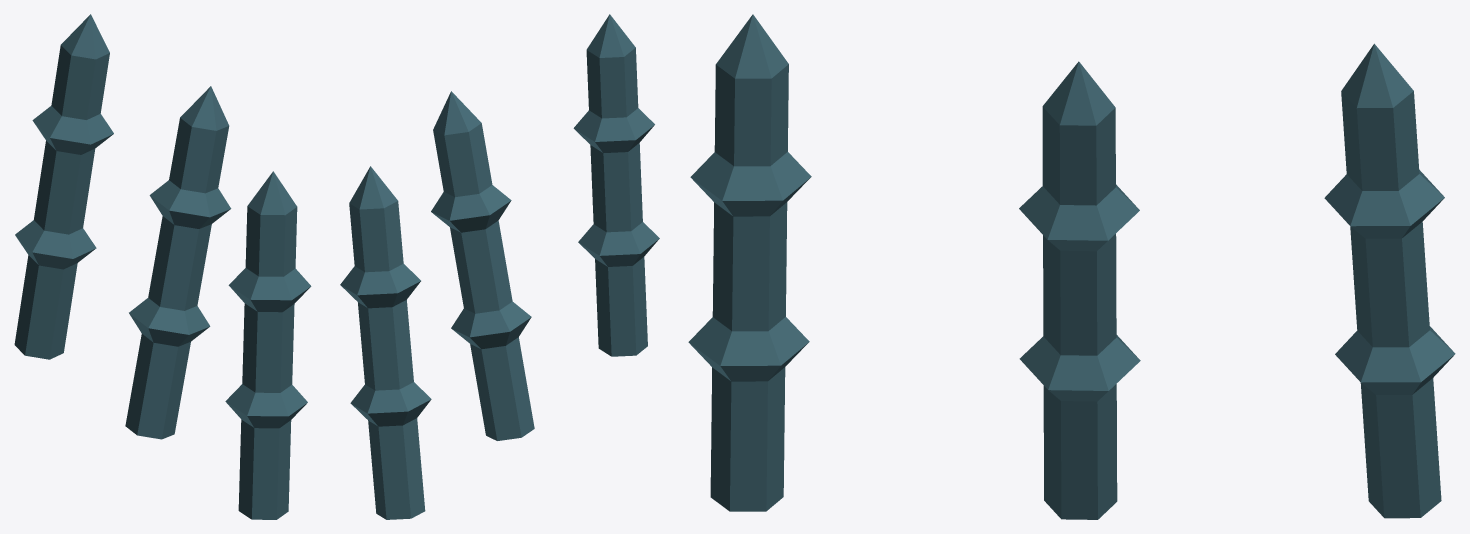
3 renders of one model, left to right at view 1: azimuth 30°, elevation 25°; view 2: azimuth 150°, elevation 25°; view 3: azimuth 270°, elevation 25°, orthographic. The views are drawn at different scales.
Parts seen in each view (by area): view 1: Cylinder1519_metal_0, Cylinder1614_metal_0, Cylinder1520_metal_0; view 2: Cylinder1520_metal_0, Cylinder1519_metal_0, Cylinder1614_metal_0; view 3: Cylinder1614_metal_0, Cylinder1520_metal_0, Cylinder1519_metal_0.
Part boxes in pixels (x1=…): Cylinder1519_metal_0: x1=125, y1=86, x2=231, y2=439; Cylinder1614_metal_0: x1=225, y1=171, x2=311, y2=519; Cylinder1520_metal_0: x1=14, y1=14, x2=113, y2=359; Cylinder1520_metal_0: x1=340, y1=166, x2=431, y2=519; Cylinder1519_metal_0: x1=431, y1=91, x2=534, y2=440; Cylinder1614_metal_0: x1=573, y1=14, x2=659, y2=356; Cylinder1614_metal_0: x1=688, y1=14, x2=811, y2=511; Cylinder1520_metal_0: x1=1324, y1=43, x2=1455, y2=518; Cylinder1519_metal_0: x1=1019, y1=61, x2=1140, y2=519.
Size of the model in its own units: 26.22 by 84.79 by 118.
